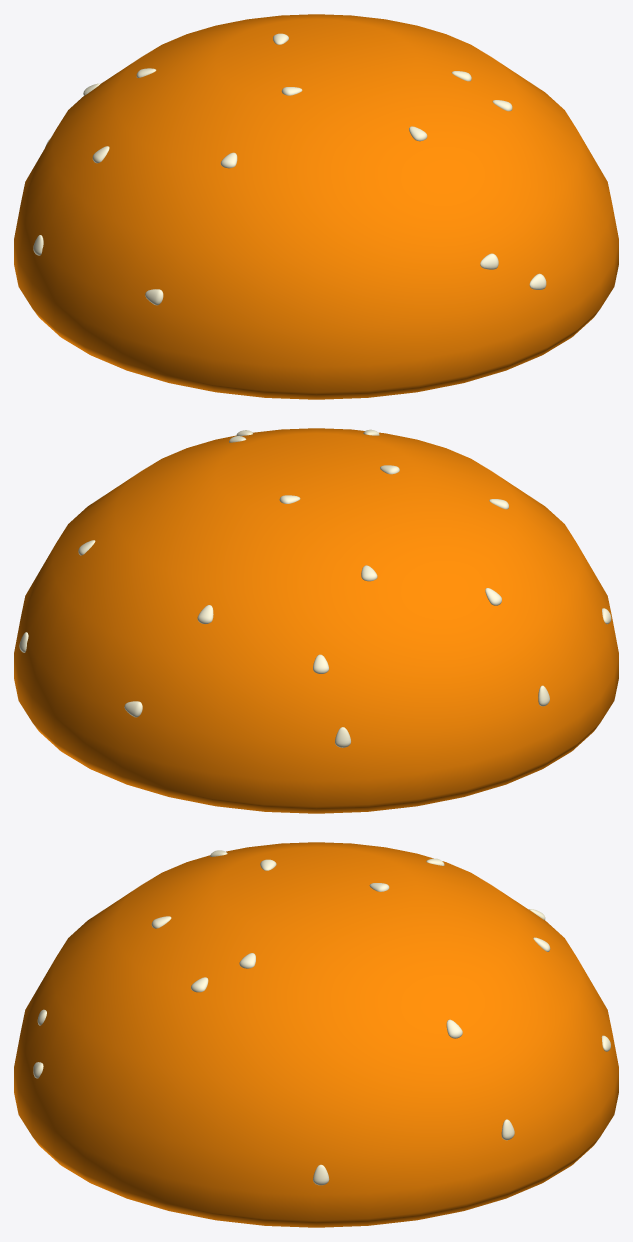
The model's file is burger_top.glb.
The picture shows the model from 3 angles, top to bottom: view 1: azimuth 30°, elevation 25°; view 2: azimuth 150°, elevation 25°; view 3: azimuth 270°, elevation 25°; orthographic projection.
Parts seen in each view (by area): view 1: top_bun_1; view 2: top_bun_1; view 3: top_bun_1.
Boxes of the visible parts, box(x1,y1,x2,y2) form: top_bun_1: box(14, 14, 618, 399); top_bun_1: box(14, 428, 618, 813); top_bun_1: box(14, 842, 618, 1227).
Size of the model in its own units: 0.246 by 0.0972 by 0.2454.
